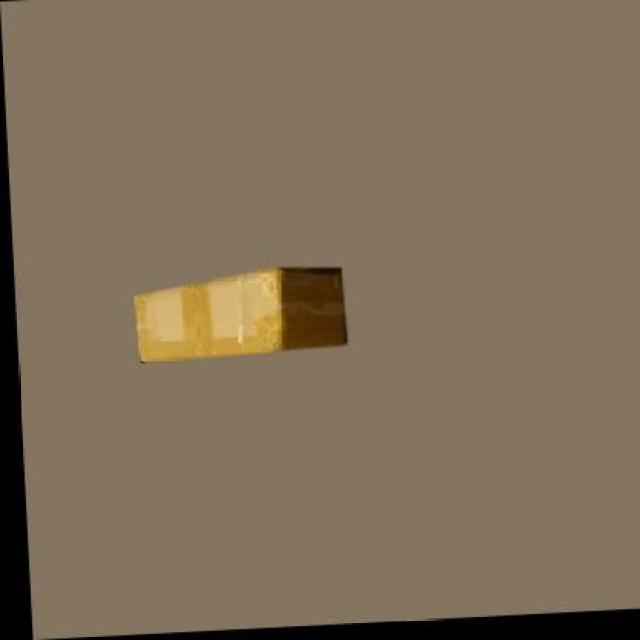box: (132, 269, 339, 362)
